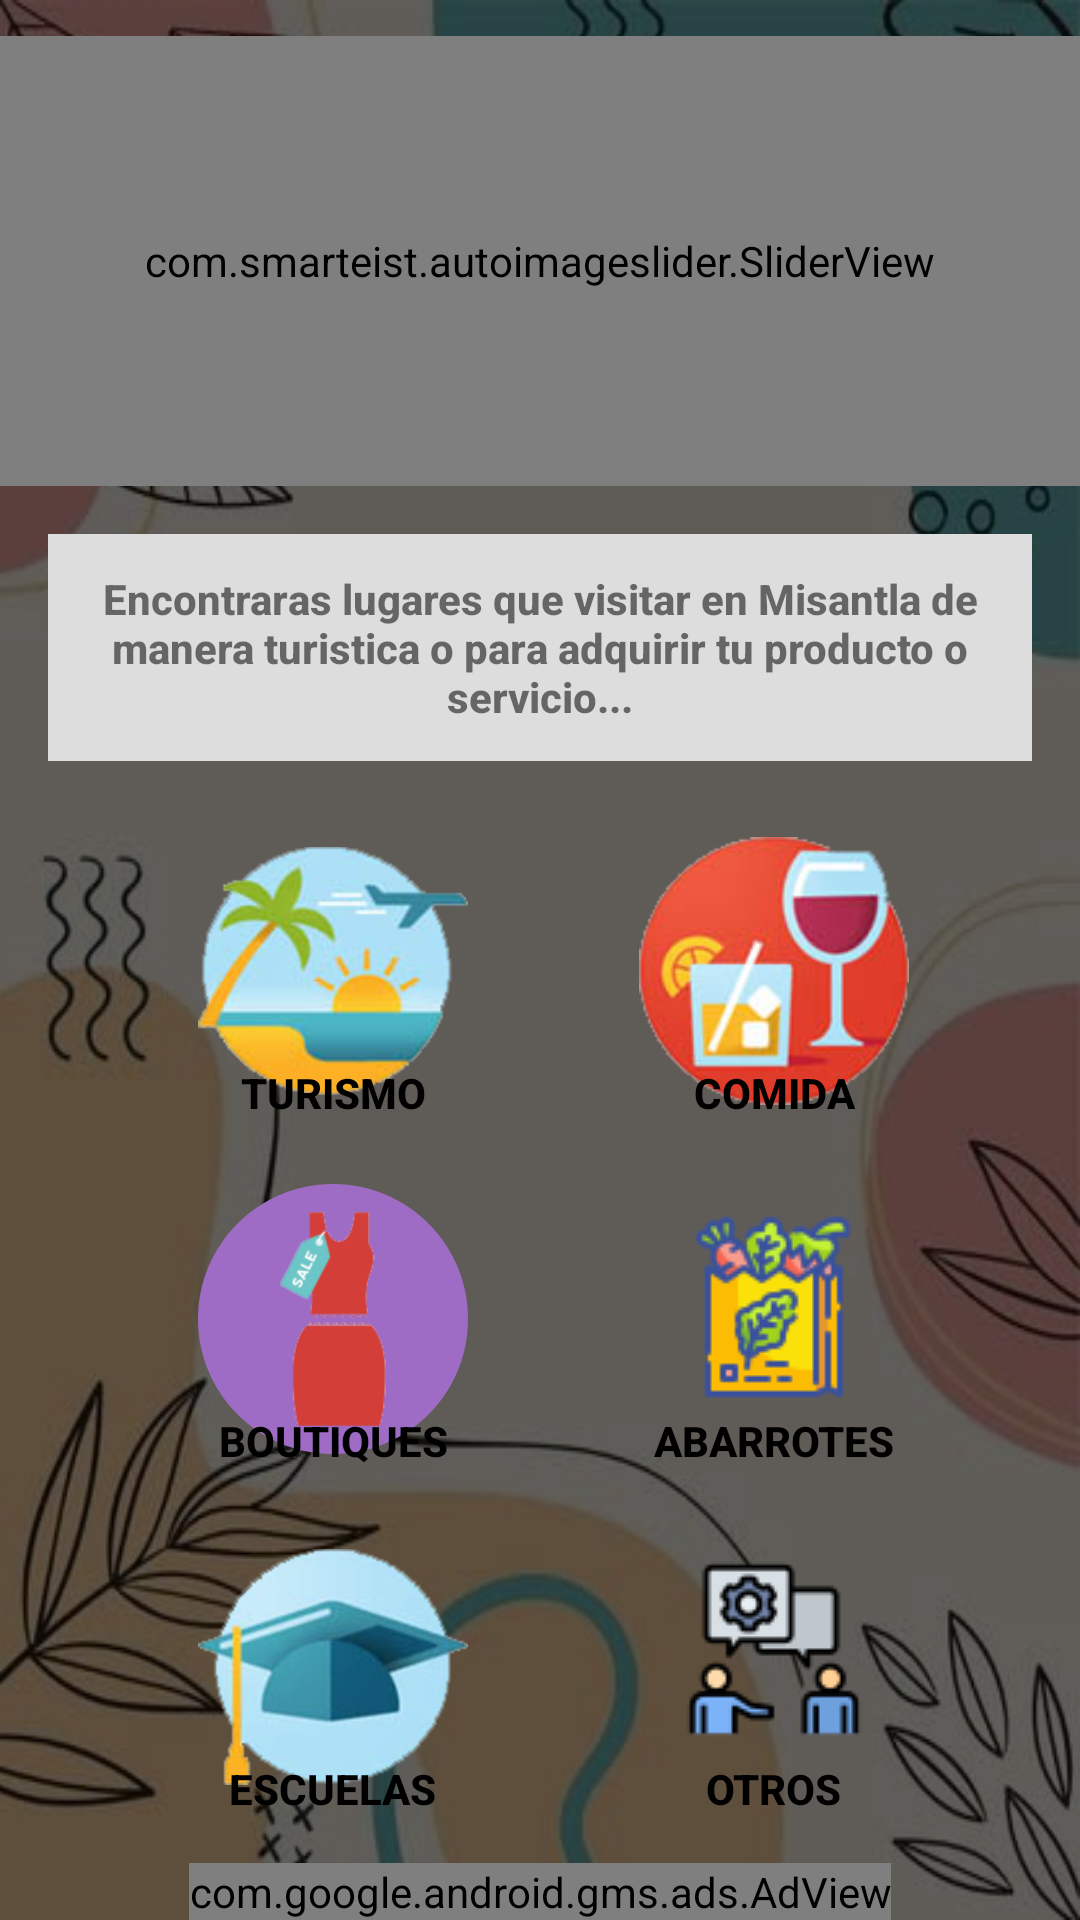

Where to tap for icons on this 1080px x 1920px app screen, as (x=x, y=y):
service: (x=774, y=1667)
